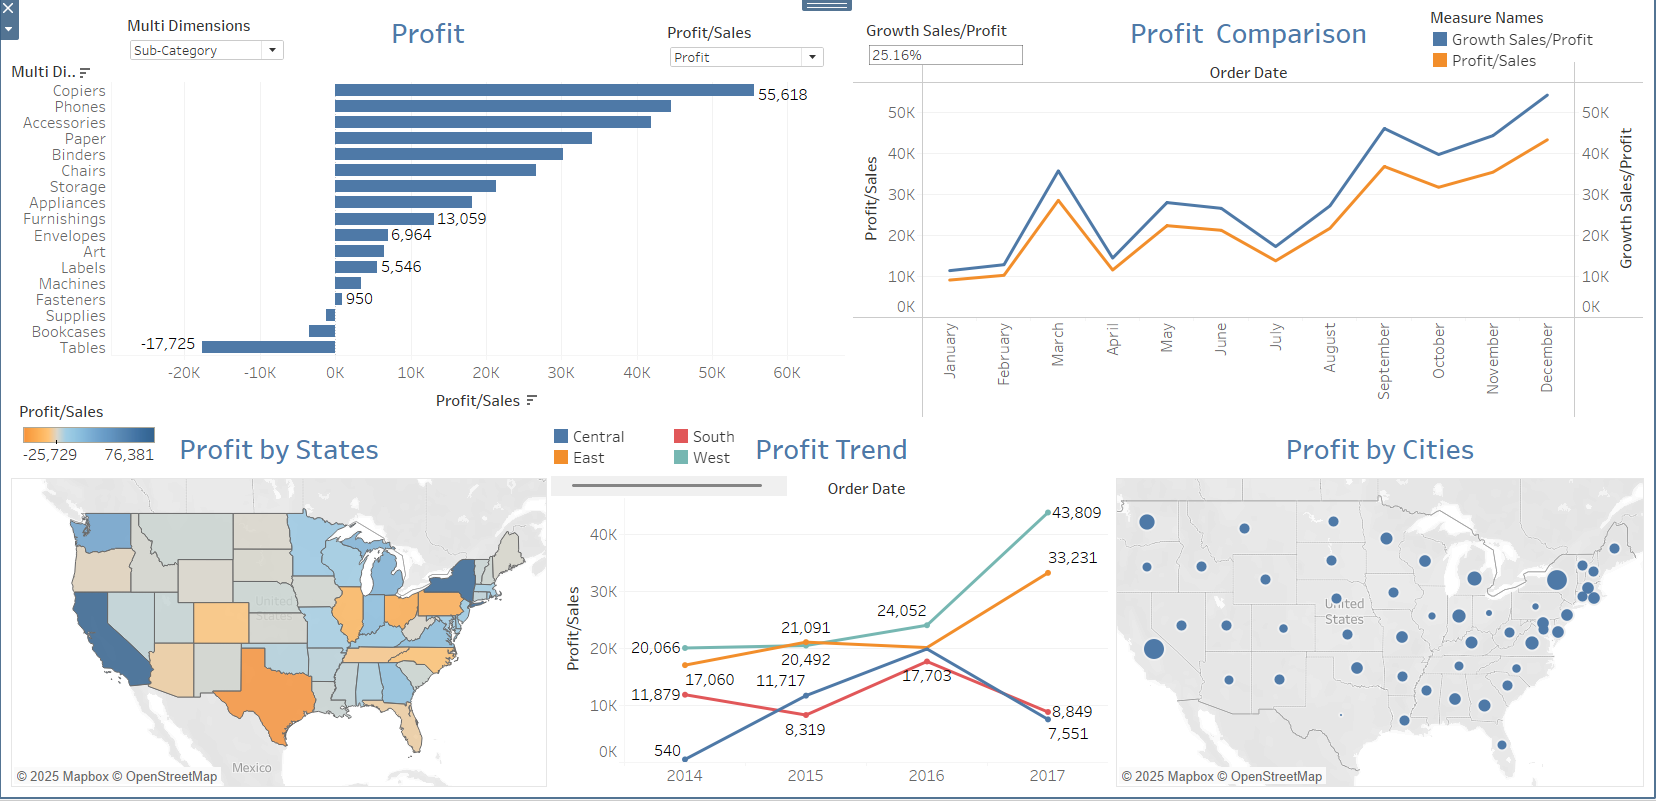

The page's visual inventory and layout, read from the dashboard file:
{"tool":"tableau","page":{"name":"Dashboard 1","canvas":[1000,1000],"units":"permille","ordinal":0},"visuals":[{"type":"worksheet","title":"Sales/Profit by Dimensions","mark":"Automatic","rows":["Calculation_1261289385712951296"],"cols":["Calculation_1261289385714233345"],"box":[4.8,10,508.2,519.4]},{"type":"worksheet","title":"Sales/Profit Change","mark":"Line","rows":["Calculation_1261289385714233345","Calculation_1261289385728192514"],"cols":["Order Date"],"box":[513,10,482.2,519.4]},{"type":"legend","title":"Sales/Profit Change","param":"[federated.0iicazf0n2r28x13r0bhz0ngfhor].[:Measure Names]","box":[863.6,11.2,126.1,79.9]},{"type":"parameter","param":"[Parameters].[Parameter 1]","box":[77.2,21.2,96.6,59.9]},{"type":"parameter","param":"[Parameters].[Parameter 3]","box":[523.2,27.5,96.6,71.2]},{"type":"parameter","param":"[Parameters].[Parameter 2]","box":[403.1,30,96.6,59.9]},{"type":"legend","title":"Sales/Profit by States","param":"[federated.0iicazf0n2r28x13r0bhz0ngfhor].[sum:Calculation_1261289385714233345:qk","box":[12.1,503.1,84.5,81.2]},{"type":"legend","title":"Sales/Profit Trend","param":"[federated.0iicazf0n2r28x13r0bhz0ngfhor].[none:Region:nk]","box":[333.1,506.9,143.6,114.9]},{"type":"worksheet","title":"Sales/Profit by States","mark":"Automatic","box":[4.8,529.3,328.3,460.7]},{"type":"worksheet","title":"Sales/Profit Trend","mark":"Automatic","rows":["Calculation_1261289385714233345"],"cols":["Order Date"],"box":[333.1,529.3,338.6,460.7]},{"type":"worksheet","title":"Sales/Profit by City","mark":"Automatic","box":[671.7,529.3,323.5,460.7]}]}

Visuals, with their boxes on the dashboard's canvas, which has no fixed pixel size, in thousandths of its width and height (x1, y1, x2, y2). These are canvas units, not pixel positions in the 1656x801 screenshot, which may show the page scaled, cropped or inside an application window:
"Sales/Profit by Dimensions" worksheet: {"x1": 5, "y1": 10, "x2": 513, "y2": 529}
"Sales/Profit Change" worksheet (Line marks): {"x1": 513, "y1": 10, "x2": 995, "y2": 529}
"Sales/Profit Change" legend: {"x1": 864, "y1": 11, "x2": 990, "y2": 91}
parameter: {"x1": 77, "y1": 21, "x2": 174, "y2": 81}
parameter: {"x1": 523, "y1": 28, "x2": 620, "y2": 99}
parameter: {"x1": 403, "y1": 30, "x2": 500, "y2": 90}
"Sales/Profit by States" legend: {"x1": 12, "y1": 503, "x2": 97, "y2": 584}
"Sales/Profit Trend" legend: {"x1": 333, "y1": 507, "x2": 477, "y2": 622}
"Sales/Profit by States" worksheet: {"x1": 5, "y1": 529, "x2": 333, "y2": 990}
"Sales/Profit Trend" worksheet: {"x1": 333, "y1": 529, "x2": 672, "y2": 990}
"Sales/Profit by City" worksheet: {"x1": 672, "y1": 529, "x2": 995, "y2": 990}
